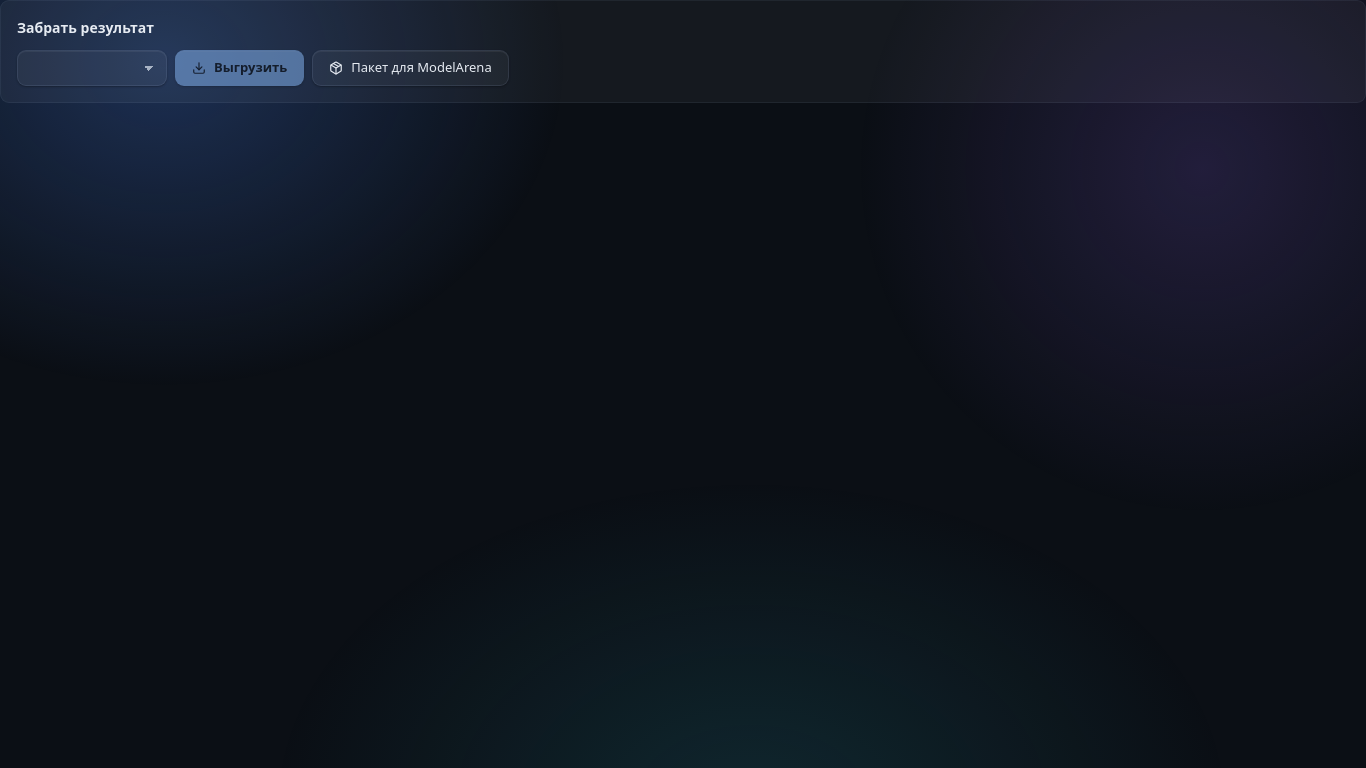
выгрузка › ошибка сервера показывается, а не сохраняется как файл
Click the button "Пакет для ModelArena" at (411, 68), box [312,50,509,86]
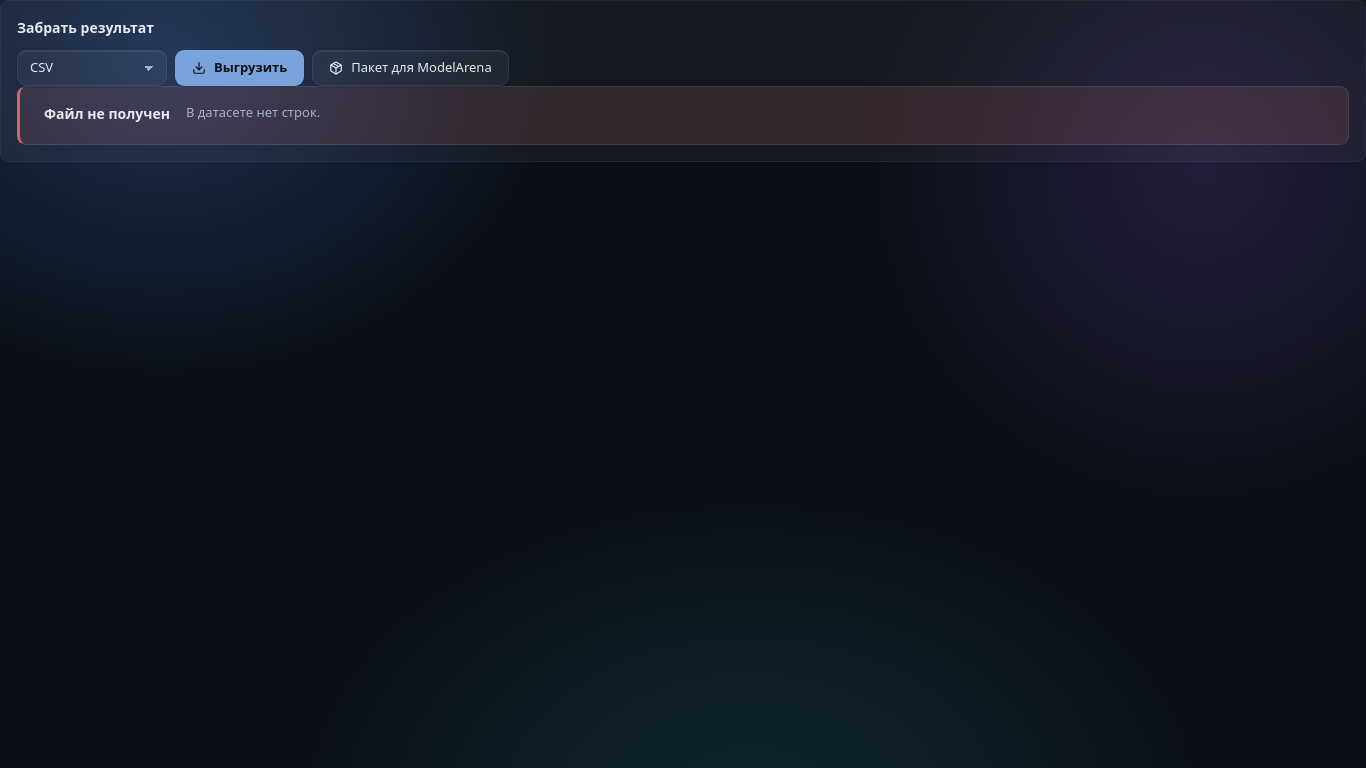
Result: the message shows "В датасете нет строк." at [186,103,320,121]
